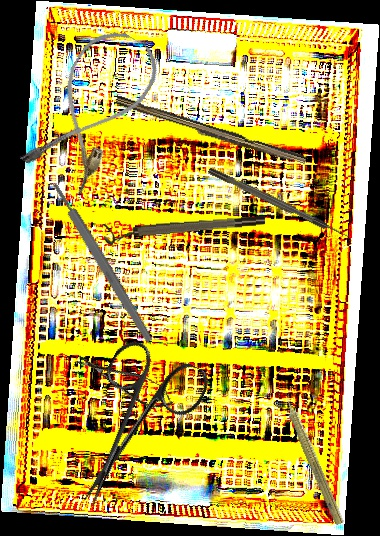Cannula: (16, 18, 168, 198)
Fixation Ring: (102, 212, 267, 246)
Handpiece: (276, 385, 350, 527)
Hook Surgical: (207, 165, 351, 242)
Iris Scissors: (47, 330, 214, 528)
Micro Scissor: (72, 344, 178, 417)
Scalpel Handle: (50, 181, 155, 344), (113, 95, 308, 168)
